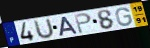4: (20, 21, 36, 42)
8: (96, 9, 116, 30)
A: (59, 15, 80, 37)
G: (115, 7, 134, 27)
P: (73, 12, 93, 35)
U: (33, 18, 55, 41)
